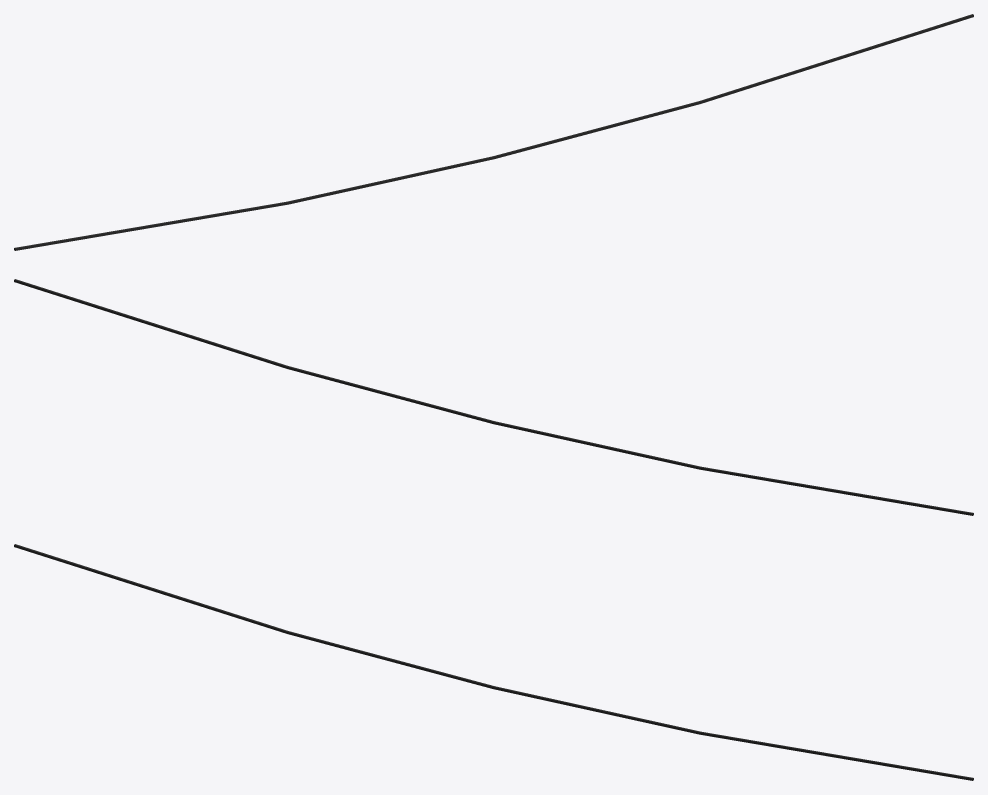
Rendered from PowerLines_02.fbx.
3 views of the same model, one above another, from view 1: azimuth 30°, elevation 25°; view 2: azimuth 150°, elevation 25°; view 3: azimuth 330°, elevation 25° (orthographic).
Visible parts, largest first — view 1: PowerLines_02; view 2: PowerLines_02; view 3: PowerLines_02.
Part boxes in pixels (x1=…): PowerLines_02: x1=14, y1=14, x2=973, y2=250; PowerLines_02: x1=14, y1=279, x2=973, y2=515; PowerLines_02: x1=14, y1=544, x2=973, y2=780.
Size of the model in its own units: 700 by 19.07 by 1.5.
